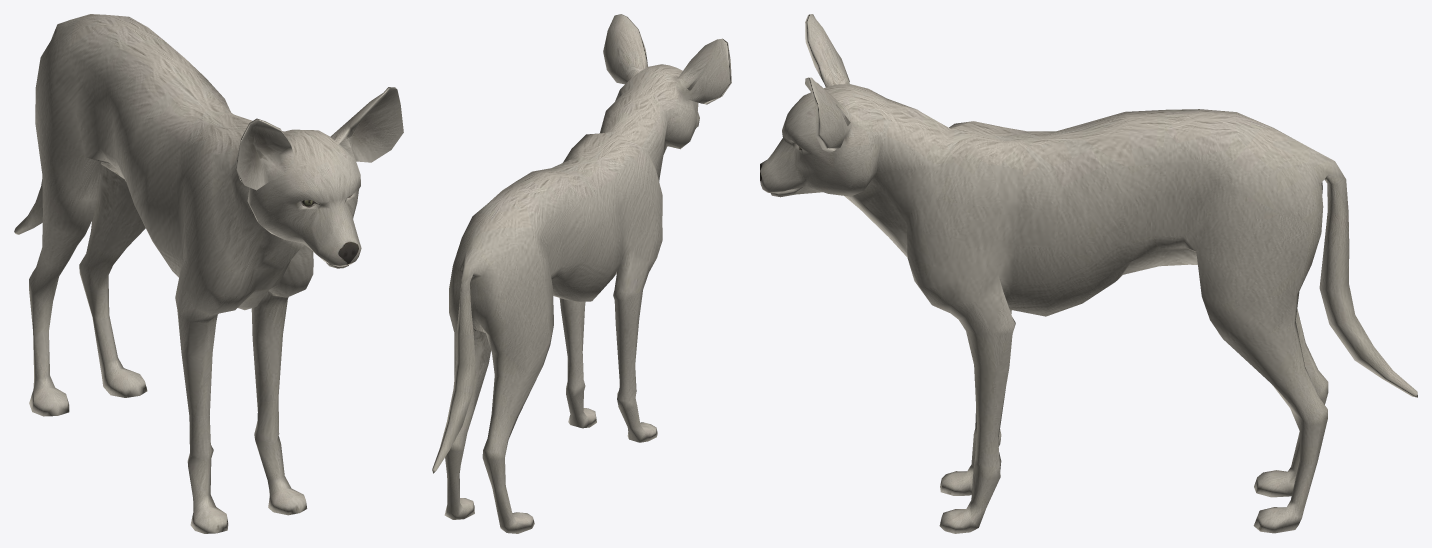
File: dog.glb
3 views of the same model, side by side, from view 1: azimuth 30°, elevation 25°; view 2: azimuth 150°, elevation 25°; view 3: azimuth 270°, elevation 25° (orthographic). The views are drawn at different scales.
Bounding box in the file's own units: 0.3675 × 1 × 1.29.
1 material, 1 textured.
